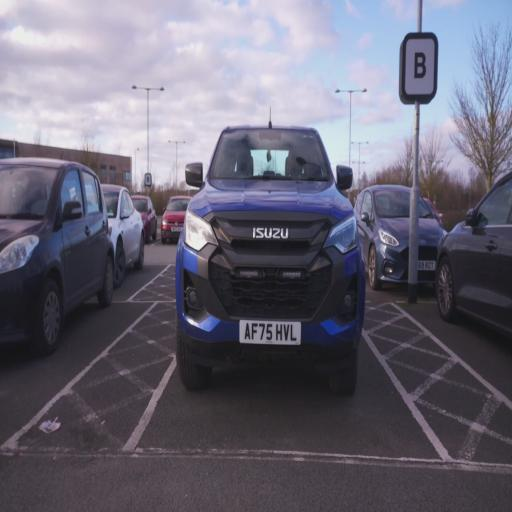numberplates: (240, 320, 301, 345), (418, 261, 435, 270), (171, 227, 182, 232)
